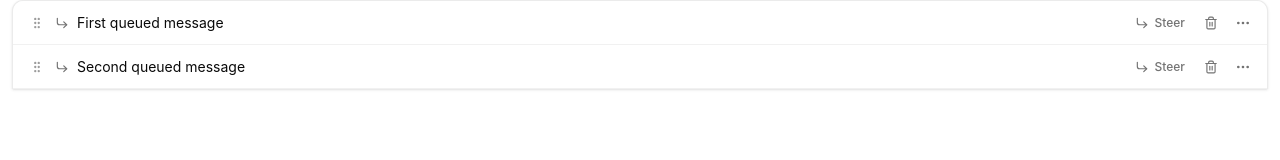
Scenario: TaskChatQueuedMessages › explains steering_unsupported without claiming the message was delivered
Click the button with test id "task-chat-queued-steer-comment-1": (1160, 22) [1126,8,1193,36]
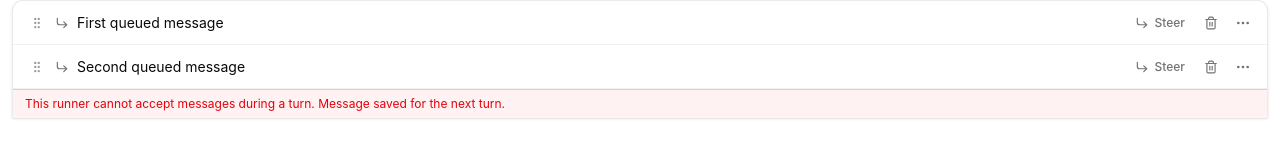
Expected: the text "First queued message" is shown, [77,14,224,30]
Expected: the text "next turn" is shown, [25,96,505,111]
